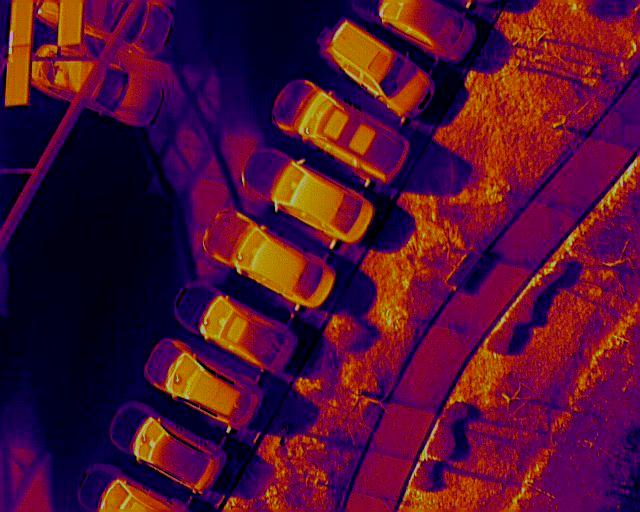Cell: (6, 44, 31, 105)
